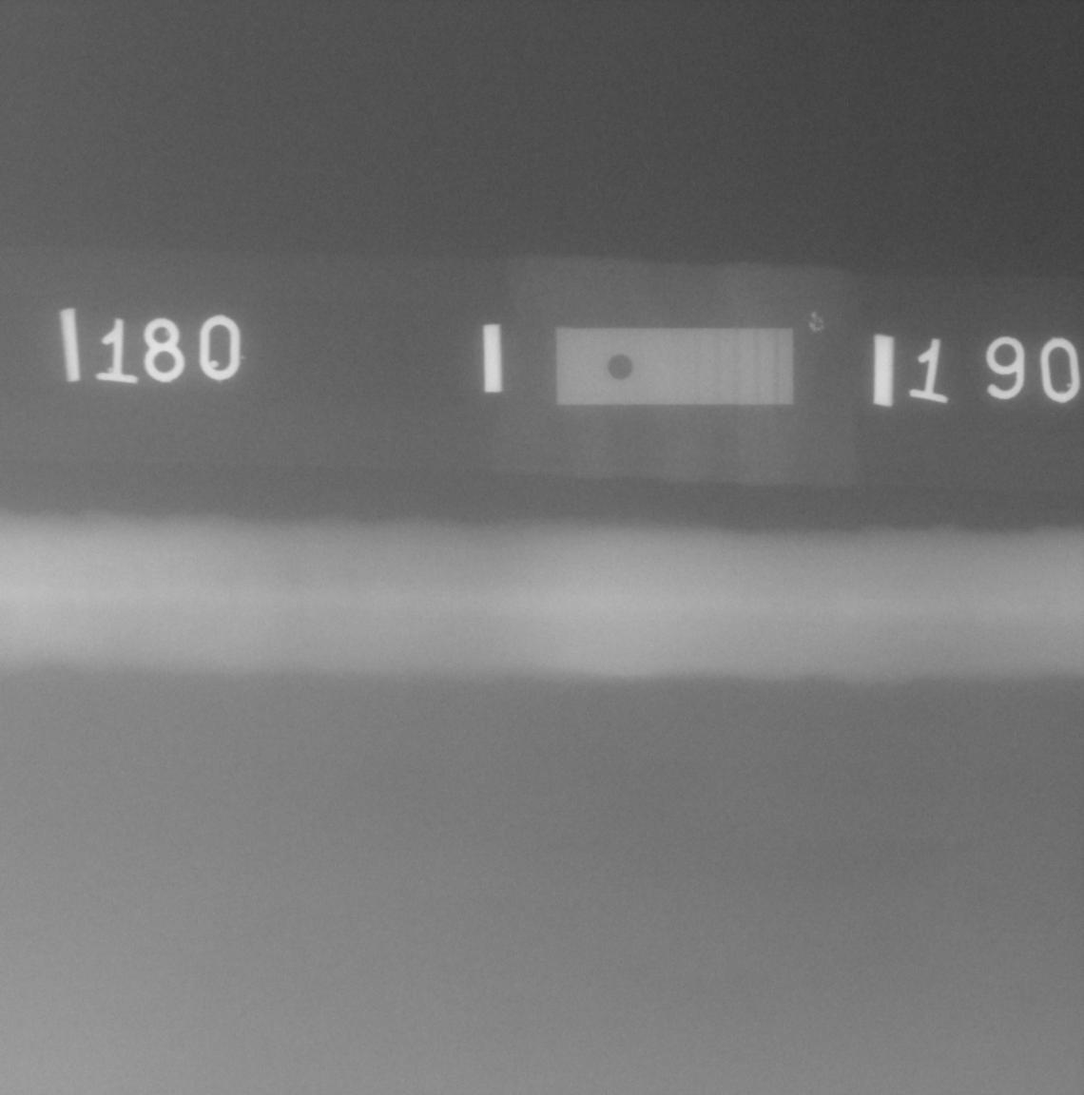Reference Standard 1: (556, 328, 794, 405)
